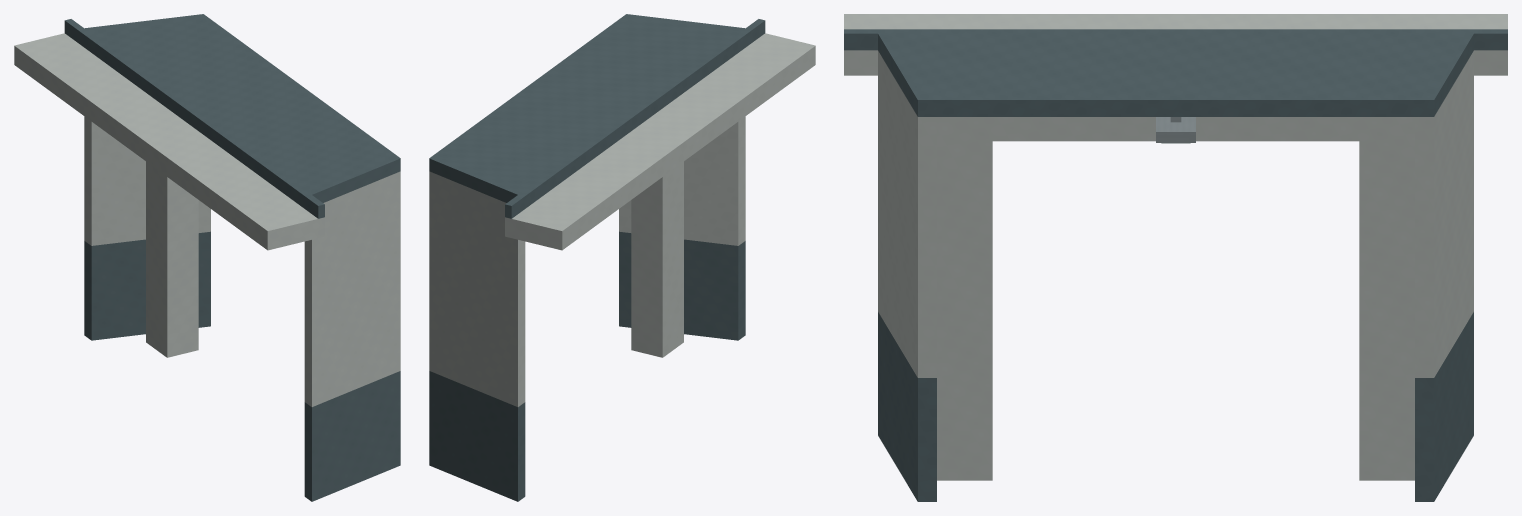
File: AST-STF-G3-024.glb
3 views of the same model, side by side, from view 1: azimuth 30°, elevation 25°; view 2: azimuth 150°, elevation 25°; view 3: azimuth 270°, elevation 25° (orthographic). The views are drawn at different scales.
Visible parts, largest first — view 1: screen_wall_staff_white_paint_uniforms_receiver, overhead_staff_bluegrey_paint_uniforms_receiver, screen_wall_staff_bluegrey_paint_uniforms_receiver, door_receiver_staff_white_paint_uniforms_receiver; view 2: screen_wall_staff_white_paint_uniforms_receiver, overhead_staff_bluegrey_paint_uniforms_receiver, screen_wall_staff_bluegrey_paint_uniforms_receiver, door_receiver_staff_white_paint_uniforms_receiver; view 3: overhead_staff_bluegrey_paint_uniforms_receiver, door_receiver_staff_white_paint_uniforms_receiver, screen_wall_staff_white_paint_uniforms_receiver, screen_wall_staff_bluegrey_paint_uniforms_receiver, lighting_fixture_staff_zinc_uniforms_receiver.
Boxes of the visible parts, bbox=[...] form: screen_wall_staff_white_paint_uniforms_receiver: bbox=[14, 33, 400, 406]; overhead_staff_bluegrey_paint_uniforms_receiver: bbox=[64, 14, 400, 218]; screen_wall_staff_bluegrey_paint_uniforms_receiver: bbox=[84, 231, 400, 501]; door_receiver_staff_white_paint_uniforms_receiver: bbox=[146, 161, 198, 357]; screen_wall_staff_white_paint_uniforms_receiver: bbox=[429, 33, 815, 406]; overhead_staff_bluegrey_paint_uniforms_receiver: bbox=[429, 14, 765, 218]; screen_wall_staff_bluegrey_paint_uniforms_receiver: bbox=[429, 231, 745, 501]; door_receiver_staff_white_paint_uniforms_receiver: bbox=[631, 161, 683, 357]; overhead_staff_bluegrey_paint_uniforms_receiver: bbox=[844, 29, 1507, 116]; door_receiver_staff_white_paint_uniforms_receiver: bbox=[937, 117, 1414, 480]; screen_wall_staff_white_paint_uniforms_receiver: bbox=[844, 14, 1507, 377]; screen_wall_staff_bluegrey_paint_uniforms_receiver: bbox=[878, 312, 1473, 501]; lighting_fixture_staff_zinc_uniforms_receiver: bbox=[1156, 117, 1195, 142].
Bounding box in the file's own units: 1.98 × 3.34 × 5.
Materials: 4 (4 with a texture image).
